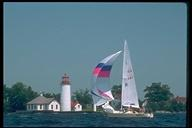house: (23, 72, 84, 114)
sailboat: (88, 36, 156, 120)
sky: (6, 3, 186, 37)
tree: (143, 80, 176, 111)
water: (2, 114, 103, 125)
